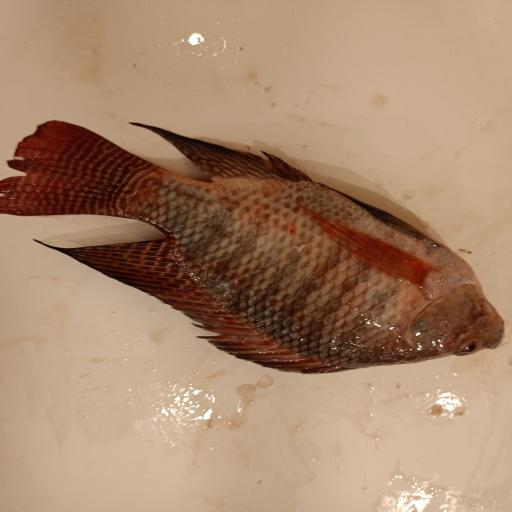Tilapia: (0, 119, 507, 375)
